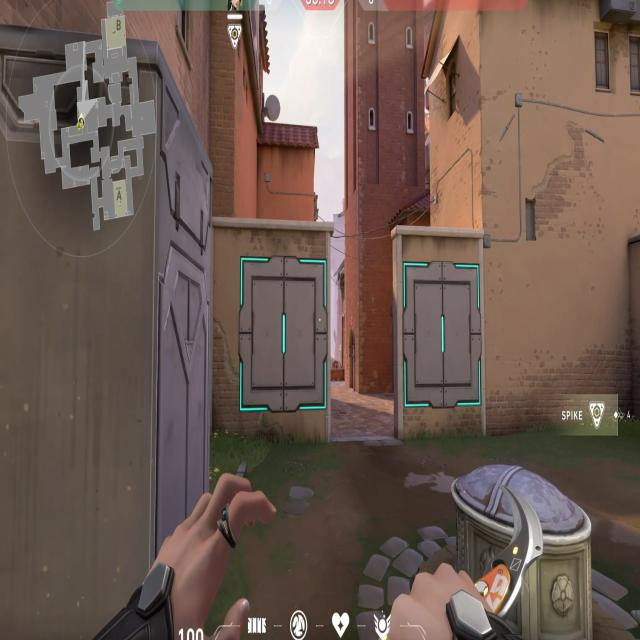Mid_Wall: (213, 216, 333, 450), (391, 222, 491, 442)
